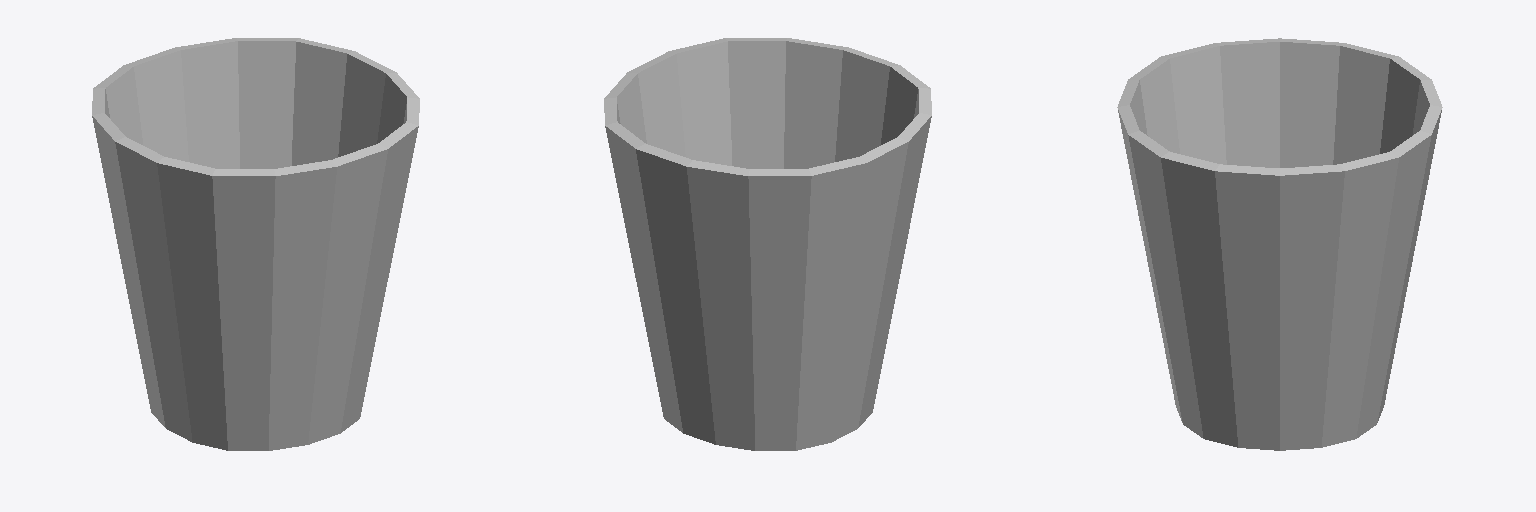
File: trashCan_mesh.obj
The picture shows the model from 3 angles: view 1: azimuth 30°, elevation 25°; view 2: azimuth 150°, elevation 25°; view 3: azimuth 270°, elevation 25°; orthographic projection.
Parts seen in each view (by area): view 1: trashCan_mesh; view 2: trashCan_mesh; view 3: trashCan_mesh.
Boxes of the visible parts, box(x1,y1,x2,y2) form: trashCan_mesh: box(92, 38, 419, 450); trashCan_mesh: box(604, 38, 931, 450); trashCan_mesh: box(1117, 38, 1442, 450).
Size of the model in its own units: 0.4586 by 0.4694 by 0.4586.